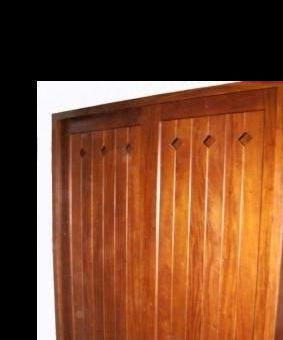Armario: (48, 82, 283, 340)
